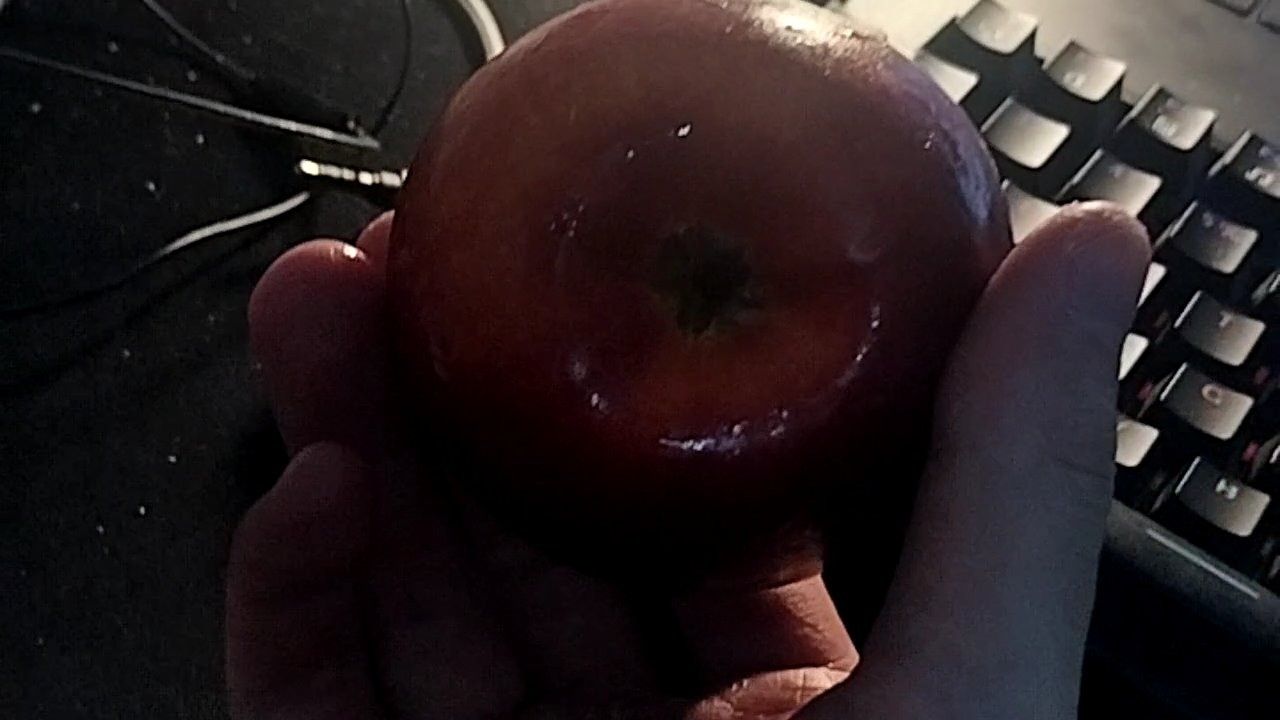apple_rotten: (378, 3, 1003, 558)
